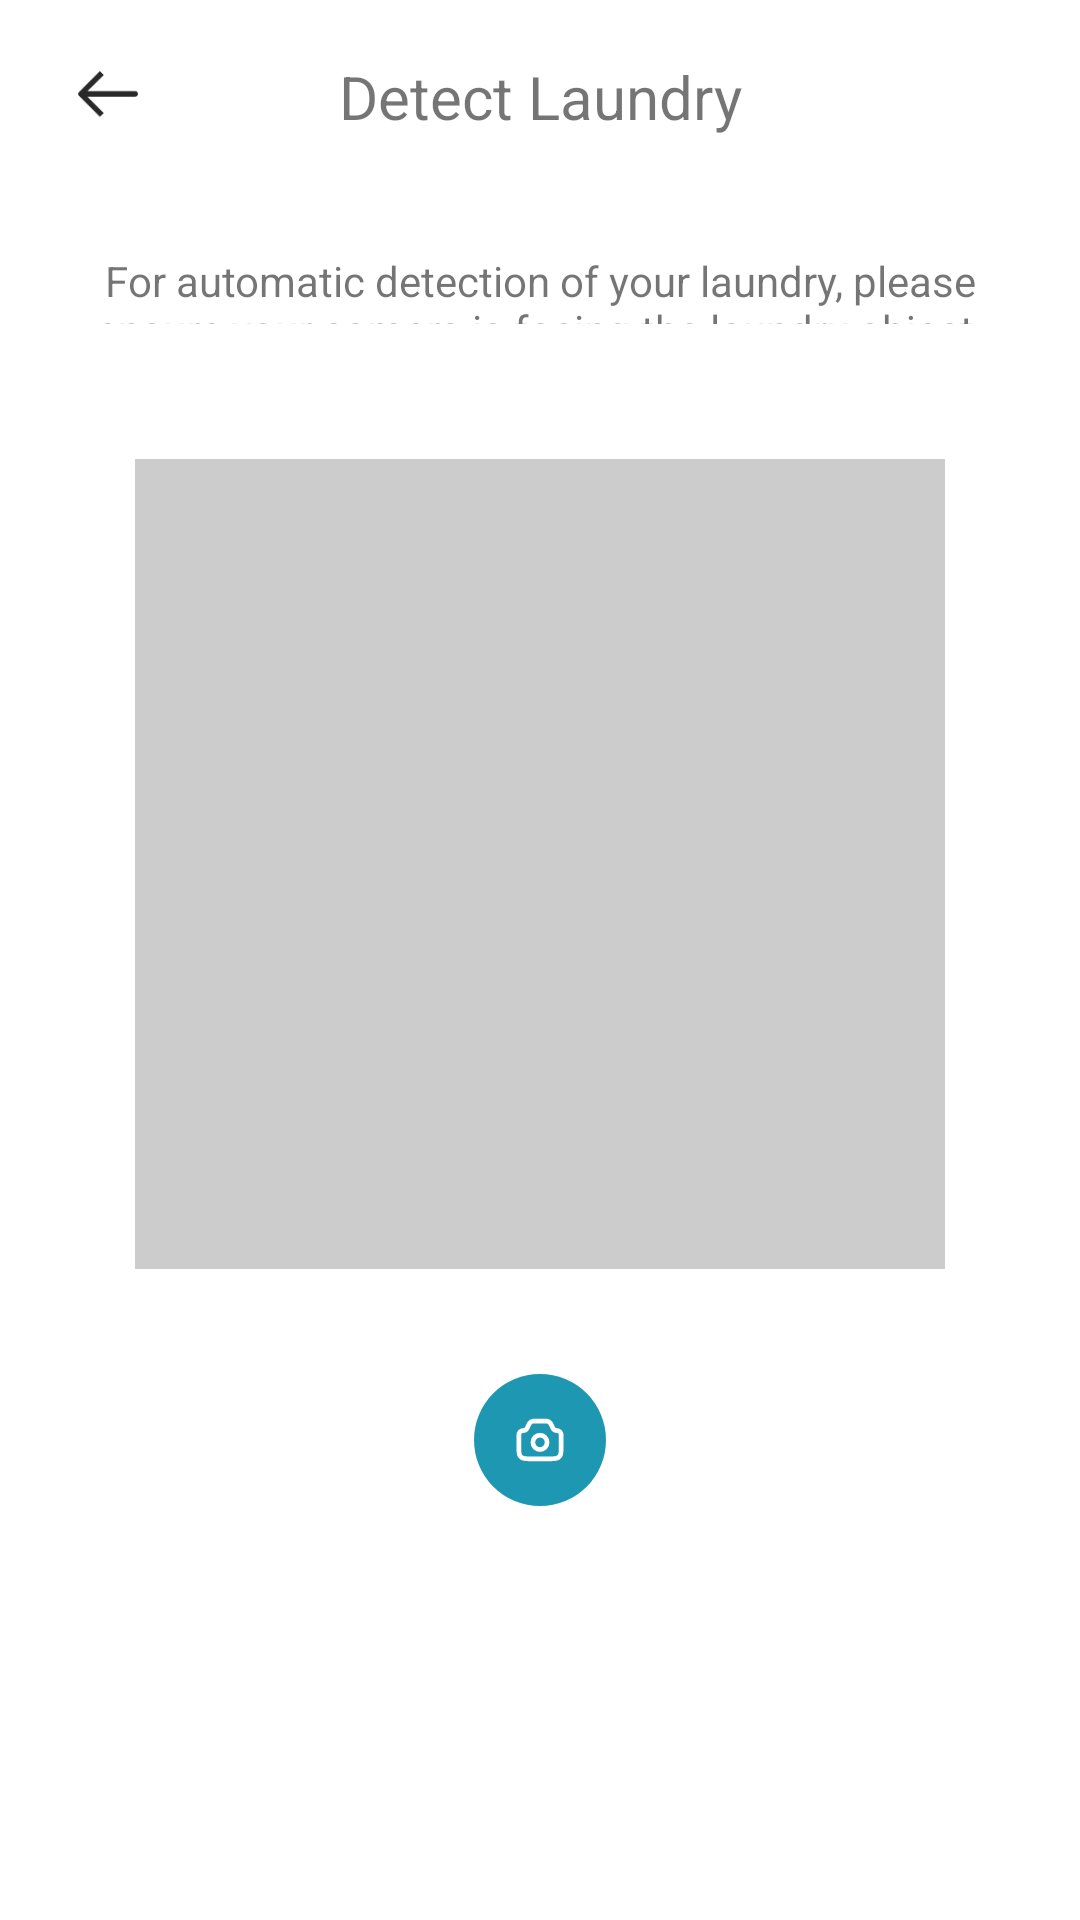

Point at icon controls on the screen. Image size 1080w x 1920h, points as [x,y].
shutter: [540,1440]
tanda panah: [108,94]
